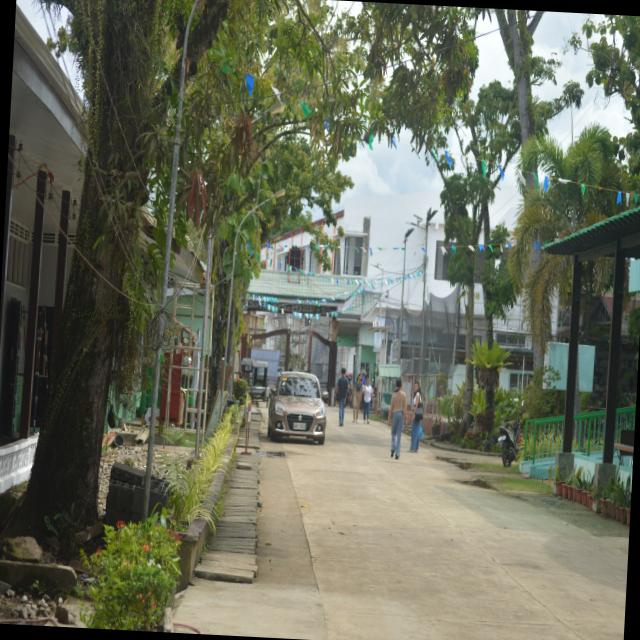person: (389, 379, 407, 459), (409, 382, 421, 452), (336, 368, 349, 426), (353, 374, 363, 422), (363, 382, 372, 423)
